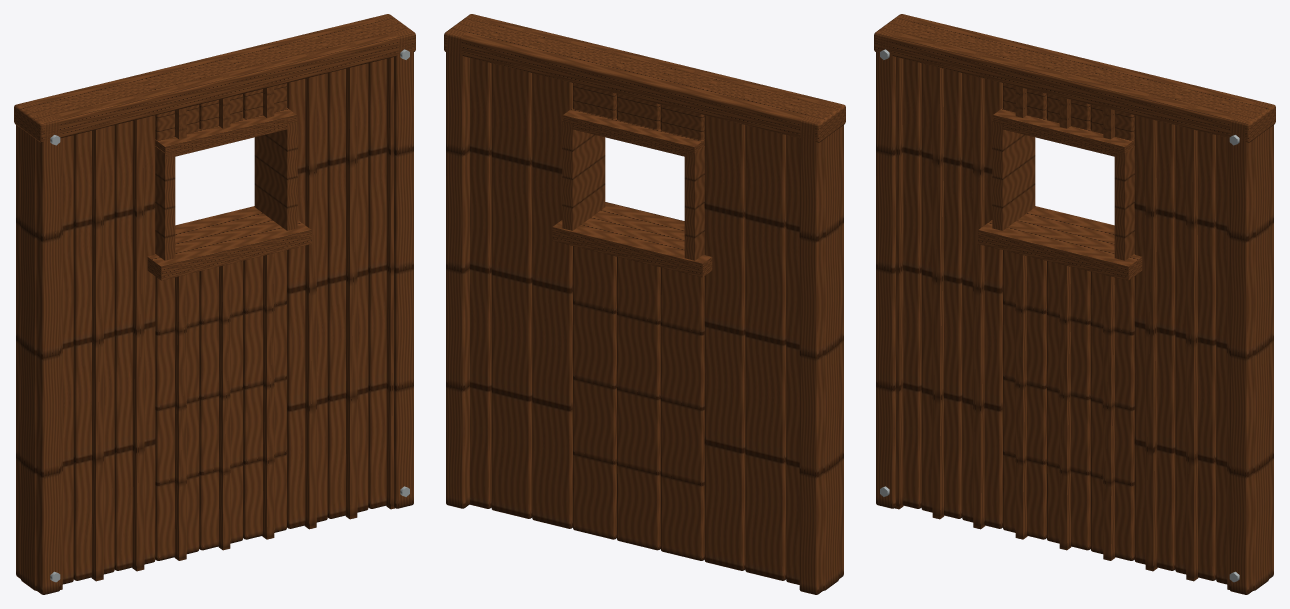
File: rural-scavenging-settlements-cottage-vent-wall-b611b7e8__26453.glb
3 views of the same model, side by side, from view 1: azimuth 30°, elevation 25°; view 2: azimuth 150°, elevation 25°; view 3: azimuth 330°, elevation 25° (orthographic).
Visible parts, largest first — view 1: cottage-vent-wall; view 2: cottage-vent-wall; view 3: cottage-vent-wall.
Part boxes in pixels (x1,y1,x2,y2): cottage-vent-wall: (14, 14, 415, 594); cottage-vent-wall: (444, 14, 845, 594); cottage-vent-wall: (874, 14, 1275, 594).
Bounding box in the file's own units: 2 × 2.4 × 0.3601.
2 materials, 1 textured.
